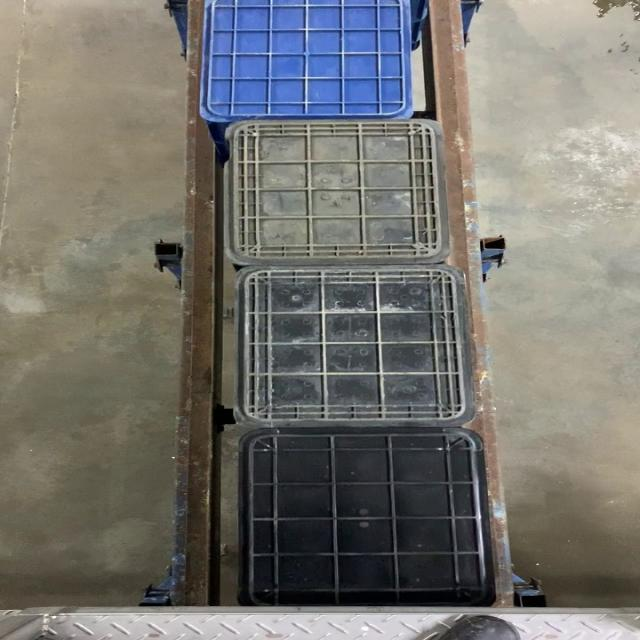Box: (237, 429, 500, 611), (231, 266, 477, 427), (227, 120, 455, 264)
